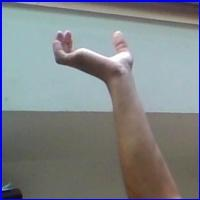B: (49, 23, 140, 81)
